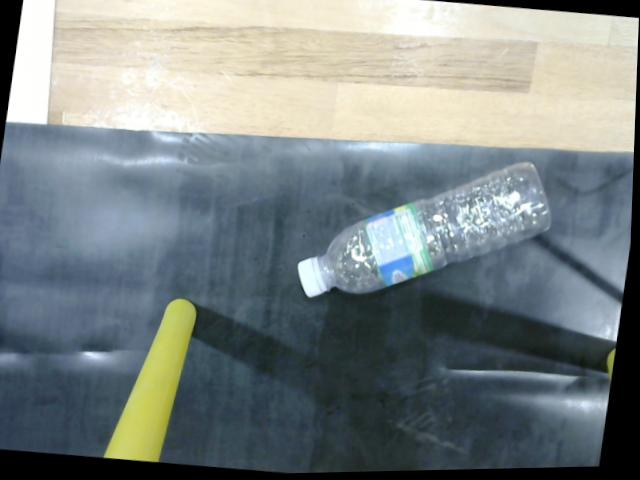bottle: (296, 157, 559, 307)
